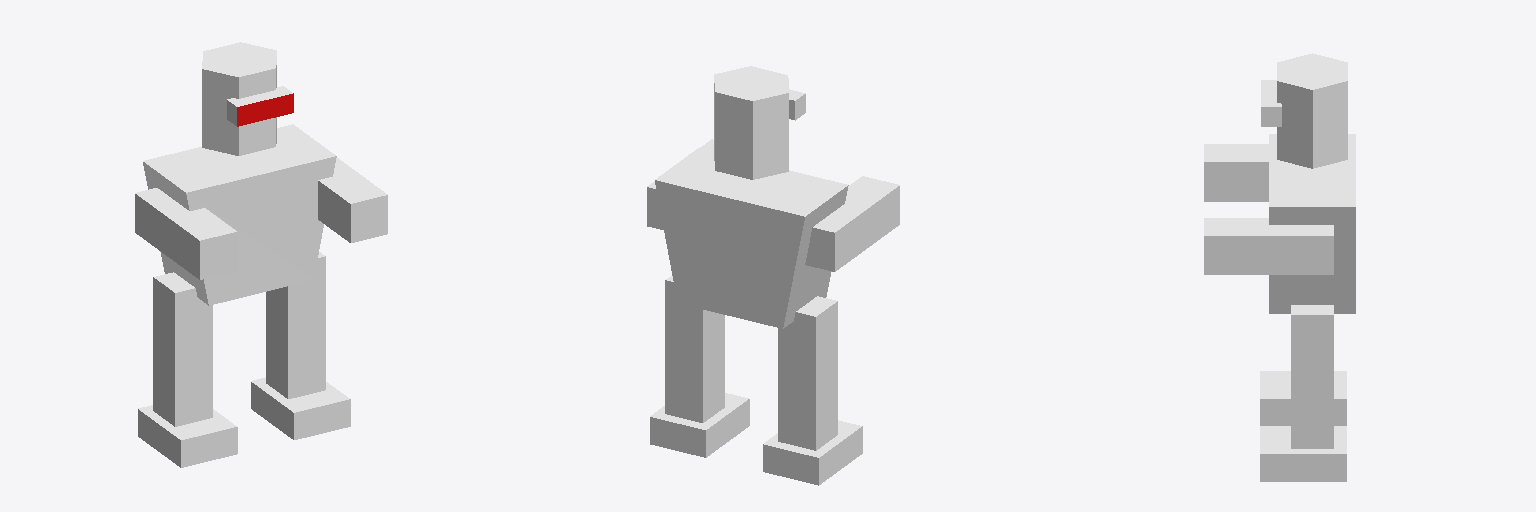
File: robot2.obj
3 views of the same model, side by side, from view 1: azimuth 30°, elevation 25°; view 2: azimuth 150°, elevation 25°; view 3: azimuth 270°, elevation 25° (orthographic).
Parts seen in each view (by area): view 1: NoName0; view 2: NoName0; view 3: NoName0.
Part boxes in pixels (x1,y1,x2,y2): NoName0: (135,42,387,467); NoName0: (647,66,899,485); NoName0: (1204,53,1355,481).
Size of the model in its own units: 10 by 18.7 by 7.